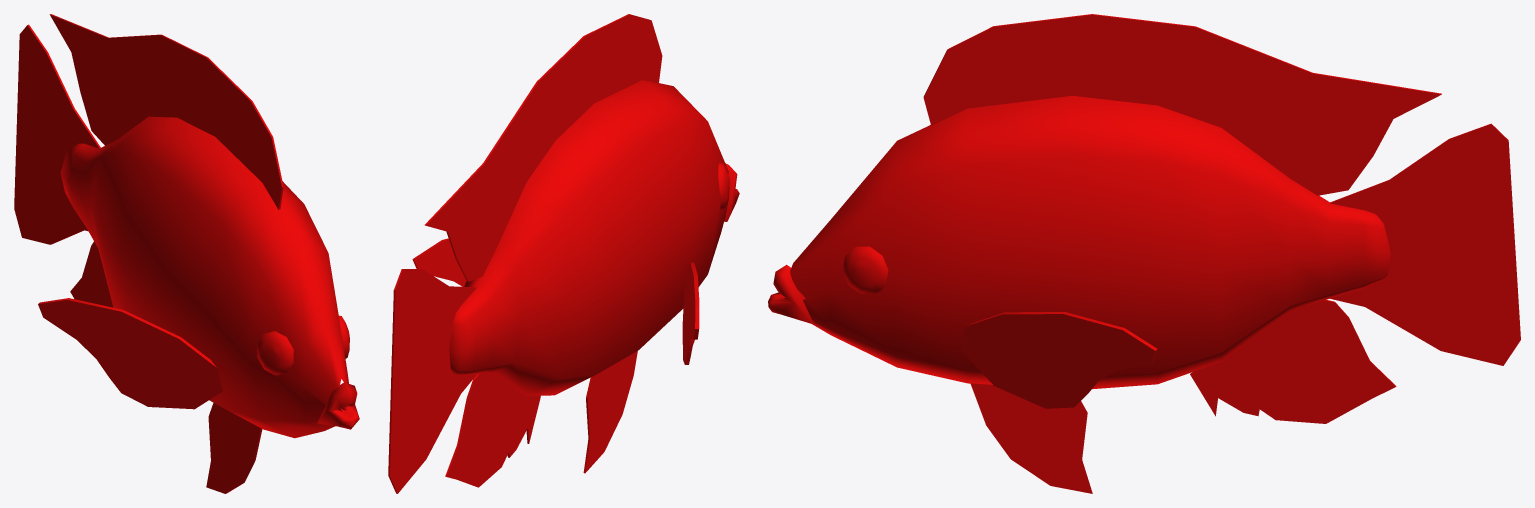
The picture shows the model from 3 angles, left to right: view 1: azimuth 30°, elevation 25°; view 2: azimuth 150°, elevation 25°; view 3: azimuth 270°, elevation 25°; orthographic projection. The views are drawn at different scales.
Parts seen in each view (by area): view 1: Fish_Tilapia; view 2: Fish_Tilapia; view 3: Fish_Tilapia.
Boxes of the visible parts, left/top/right/bottom form: Fish_Tilapia: left=14, top=14, right=359, bottom=493; Fish_Tilapia: left=388, top=14, right=739, bottom=493; Fish_Tilapia: left=768, top=14, right=1520, bottom=493.
Size of the model in its own units: 0.2792 by 0.4066 by 0.5791.
